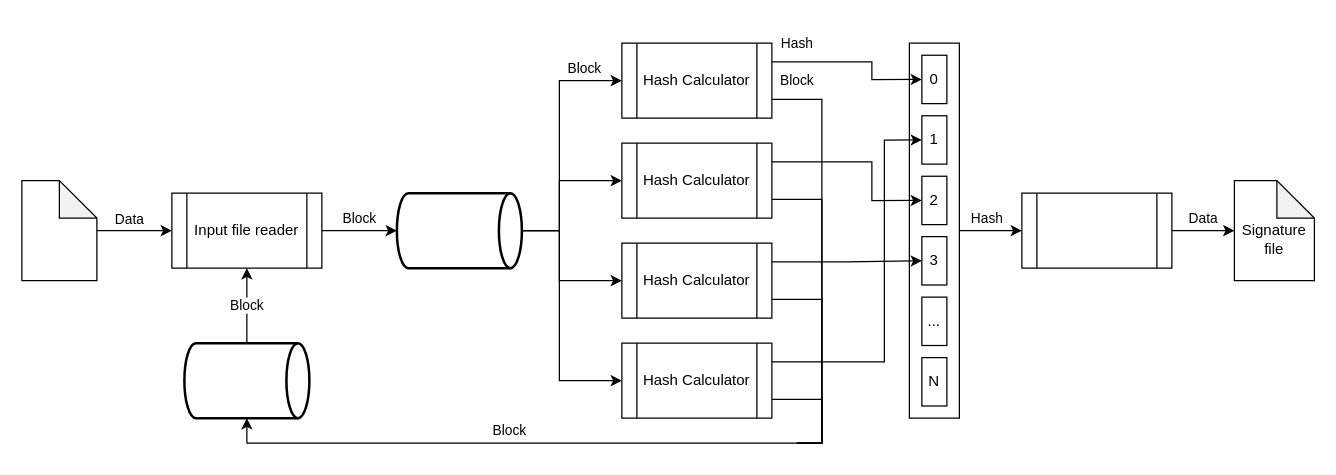
The diagram is 1336 pixels wide and 475 high, and some of its shapes have lost their labels. Here are the shapes that lost their labels. From the top down, the box of each, then its label:
(21, 179, 97, 281): Input file
(395, 191, 522, 269): Queue of Blocks
(908, 42, 959, 418): Hashes
(1021, 192, 1172, 268): Output file writer
(182, 341, 310, 419): Pool of Blocks
